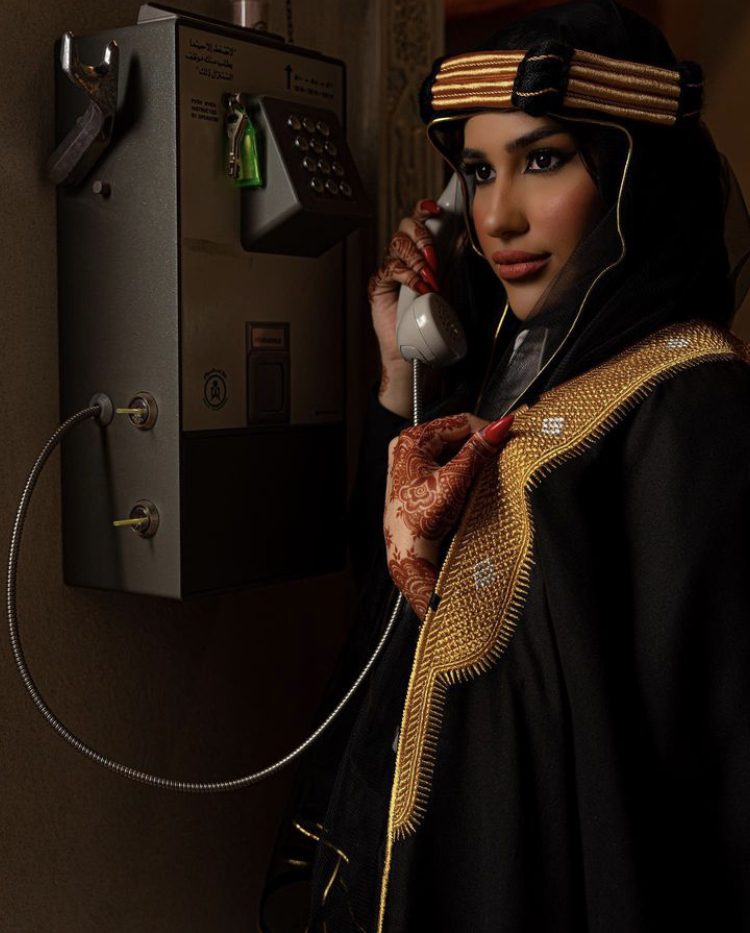Saudi_Founding_Day: (254, 4, 750, 933)
